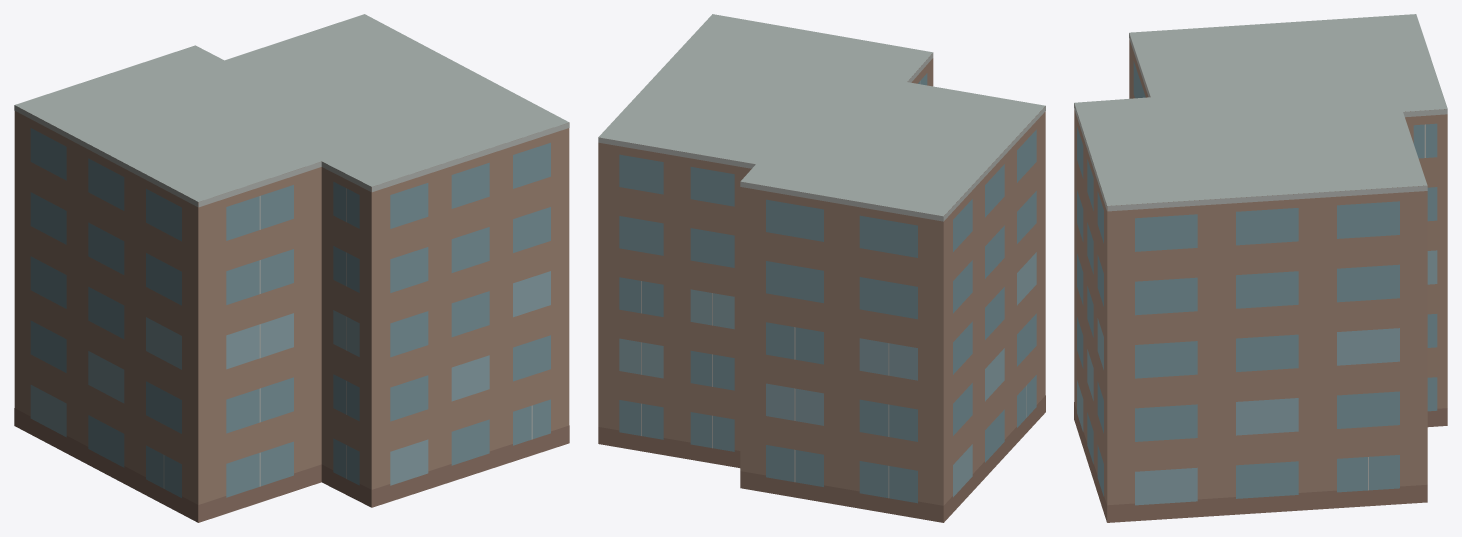
File: survey-upis-32530286.glb
The picture shows the model from 3 angles, left to right: view 1: azimuth 30°, elevation 25°; view 2: azimuth 150°, elevation 25°; view 3: azimuth 270°, elevation 25°; orthographic projection. The views are drawn at different scales.
Parts seen in each view (by area): view 1: survey-upis-32530286.tmp; view 2: survey-upis-32530286.tmp; view 3: survey-upis-32530286.tmp.
Part boxes in pixels (left/top/right/bottom): survey-upis-32530286.tmp: left=14, top=14, right=569, bottom=522; survey-upis-32530286.tmp: left=598, top=14, right=1045, bottom=522; survey-upis-32530286.tmp: left=1074, top=14, right=1447, bottom=522.
Bounding box in the file's own units: 18.46 × 14.2 × 15.18.
